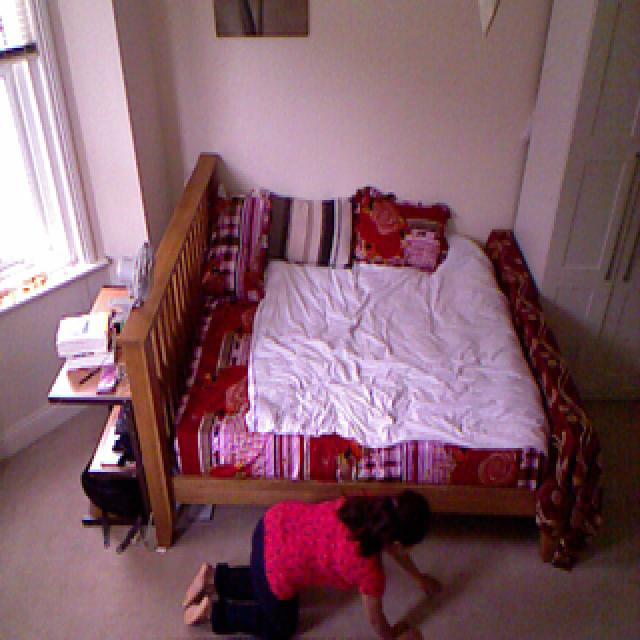crawling: (182, 494, 446, 638)
